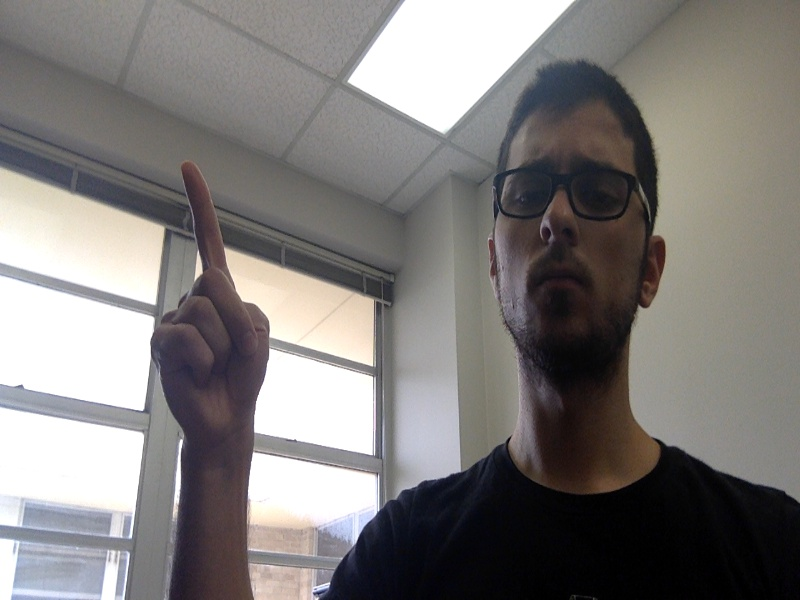1-hand: (162, 162, 274, 437)
